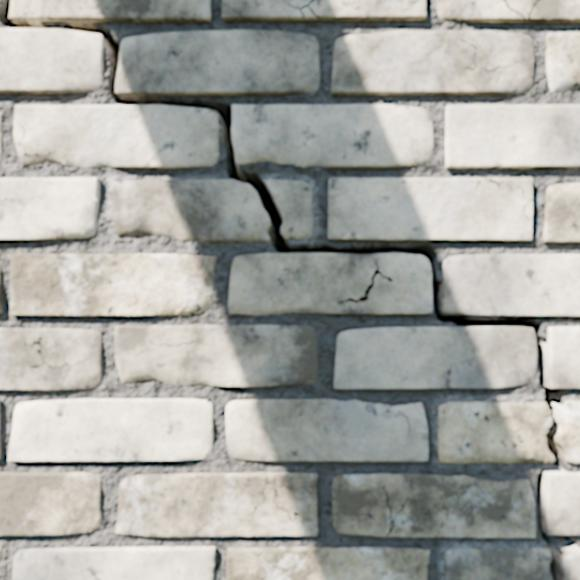brick: (117, 31, 319, 95), (332, 31, 534, 95), (329, 179, 533, 241), (117, 473, 317, 536), (233, 105, 433, 168), (10, 399, 213, 461), (12, 254, 215, 316), (15, 106, 218, 168), (333, 475, 535, 537), (335, 327, 536, 389), (227, 399, 427, 461), (230, 254, 432, 315), (116, 326, 318, 385), (446, 105, 579, 168), (443, 256, 579, 316), (0, 29, 103, 92), (13, 547, 215, 579), (0, 473, 102, 535), (0, 330, 102, 390), (0, 178, 99, 239), (228, 549, 428, 579), (11, 0, 211, 22), (438, 0, 579, 23), (304, 0, 425, 21), (543, 185, 579, 242), (546, 473, 579, 535), (546, 33, 579, 91), (548, 329, 579, 388), (222, 0, 309, 21), (497, 179, 533, 198), (509, 0, 535, 15), (0, 267, 2, 312), (0, 121, 1, 159)
broken_brick: (111, 179, 267, 243), (438, 402, 553, 464), (443, 546, 551, 579), (266, 179, 315, 240), (560, 401, 579, 465), (565, 547, 579, 579)
crack: (0, 0, 579, 579), (476, 177, 534, 222), (273, 474, 303, 523), (382, 484, 409, 537), (15, 122, 41, 157), (502, 0, 541, 20), (287, 0, 321, 19)
